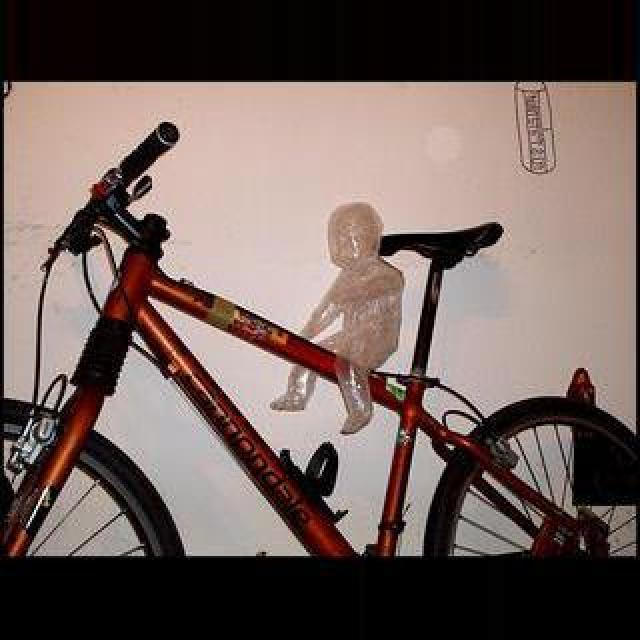Person: (4, 118, 638, 556)
